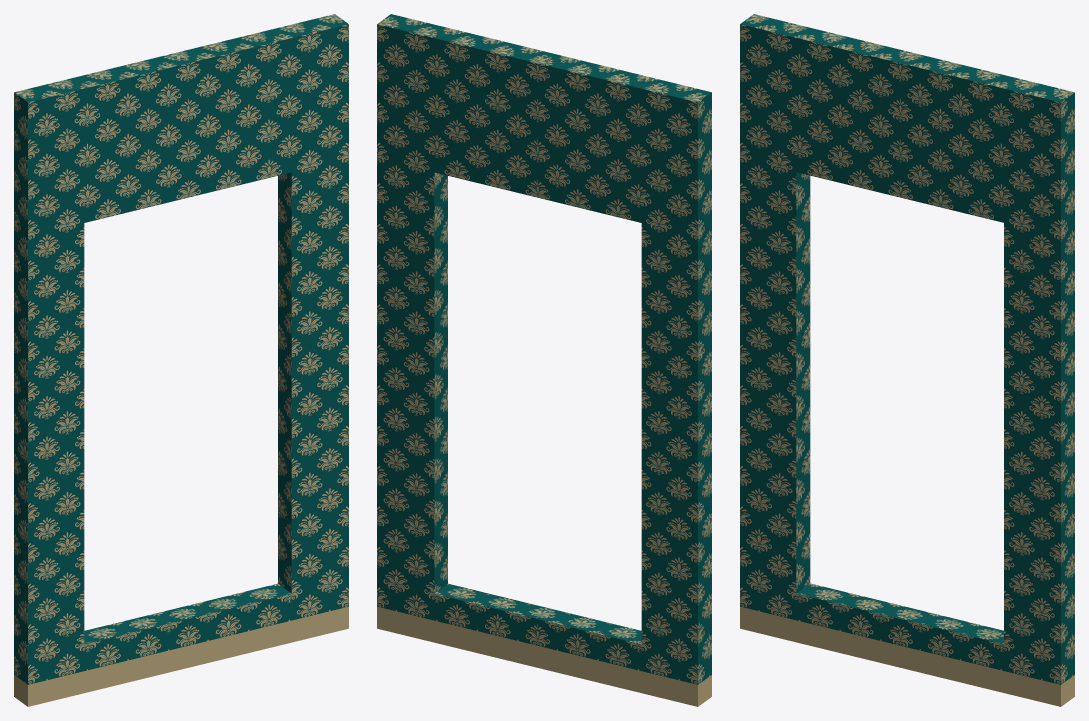
The model's file is ARC0210037.fbx.
The picture shows the model from 3 angles, left to right: view 1: azimuth 30°, elevation 25°; view 2: azimuth 150°, elevation 25°; view 3: azimuth 330°, elevation 25°; orthographic projection.
Visible parts, largest first — view 1: smARC0210037; view 2: smARC0210037; view 3: smARC0210037.
Boxes of the visible parts, left/top/right/bottom form: smARC0210037: left=14, top=14, right=348, bottom=706; smARC0210037: left=377, top=14, right=711, bottom=706; smARC0210037: left=740, top=14, right=1074, bottom=706.
Size of the model in its own units: 182 by 328 by 13.67.
Materials: 1 (1 with a texture image).
